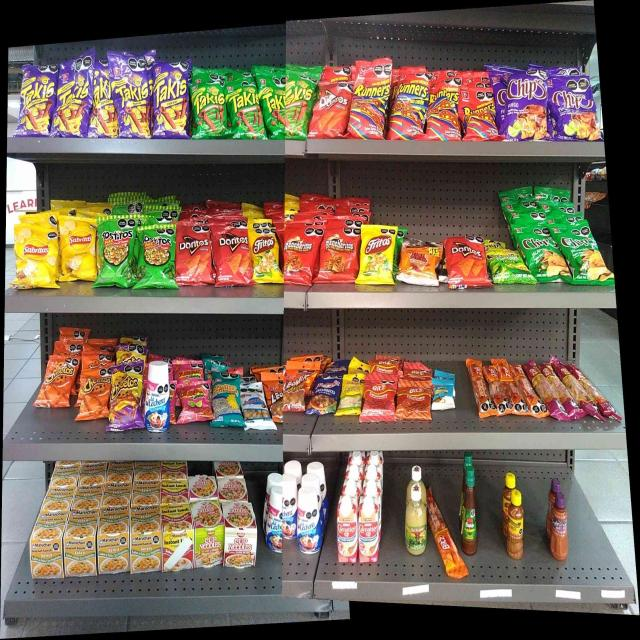bitzAlmendras: (434, 379, 454, 409)
bitzEnchilado90: (364, 377, 394, 421), (398, 381, 431, 421)
bitzEnchilado95: (431, 503, 459, 575), (488, 365, 503, 416), (473, 361, 486, 417), (520, 370, 536, 414), (506, 363, 518, 412)
bitzHabanero: (541, 364, 607, 417)
bokadosCacahuates: (313, 375, 338, 414)
botaneraChilito: (506, 490, 524, 560)
cheetosFlaminHot: (112, 366, 142, 430)
cheetosOriginal: (80, 368, 107, 419), (44, 357, 71, 406)
chipsFuego: (506, 73, 547, 141), (552, 77, 595, 141)
chipsJalapeno: (567, 228, 605, 283), (532, 226, 564, 282)
chipsPapatinas: (492, 250, 528, 282)
churrumais: (180, 384, 210, 421), (175, 360, 204, 380)
delPrimoSalsa: (405, 484, 427, 556)
doritosNacho: (177, 227, 212, 286), (215, 228, 250, 285), (448, 237, 486, 286)
fritosLimon: (361, 226, 393, 284), (252, 228, 280, 282)
hotNutsOriginal: (402, 244, 440, 284)
leoCacahuates: (243, 384, 267, 429)
leoMix: (284, 364, 308, 411)
maruchanPollo: (67, 511, 97, 577), (34, 513, 64, 579), (130, 509, 160, 572), (100, 507, 128, 573)
maruchanRes: (162, 505, 192, 570)
nestleCarnation: (358, 496, 379, 563), (337, 494, 357, 563)
nestleLechera: (144, 361, 170, 431), (298, 487, 321, 554), (266, 486, 281, 554), (283, 475, 296, 541)
nissinCamaron: (194, 502, 223, 567)
nissinRes: (224, 503, 256, 568)
rancheritos: (285, 226, 318, 284), (322, 230, 358, 283)
runners: (352, 65, 384, 138), (395, 73, 425, 141), (428, 83, 459, 141), (462, 88, 496, 140)
sabritasOriginal: (16, 225, 56, 287), (62, 217, 96, 281)
salsaBufalo: (462, 466, 478, 554)
semillasCalabaza: (342, 376, 361, 415)
semillasGirasol: (213, 371, 240, 426)
tajinDulce: (550, 492, 568, 562)
takisFuego: (116, 58, 149, 138), (152, 61, 185, 138), (57, 62, 88, 137), (21, 65, 52, 136), (92, 64, 115, 138)
takisOriginal: (228, 82, 262, 139), (193, 84, 226, 139), (315, 83, 347, 138), (286, 74, 308, 139), (264, 78, 285, 139)
tostitos: (99, 217, 135, 288), (140, 226, 174, 289)
